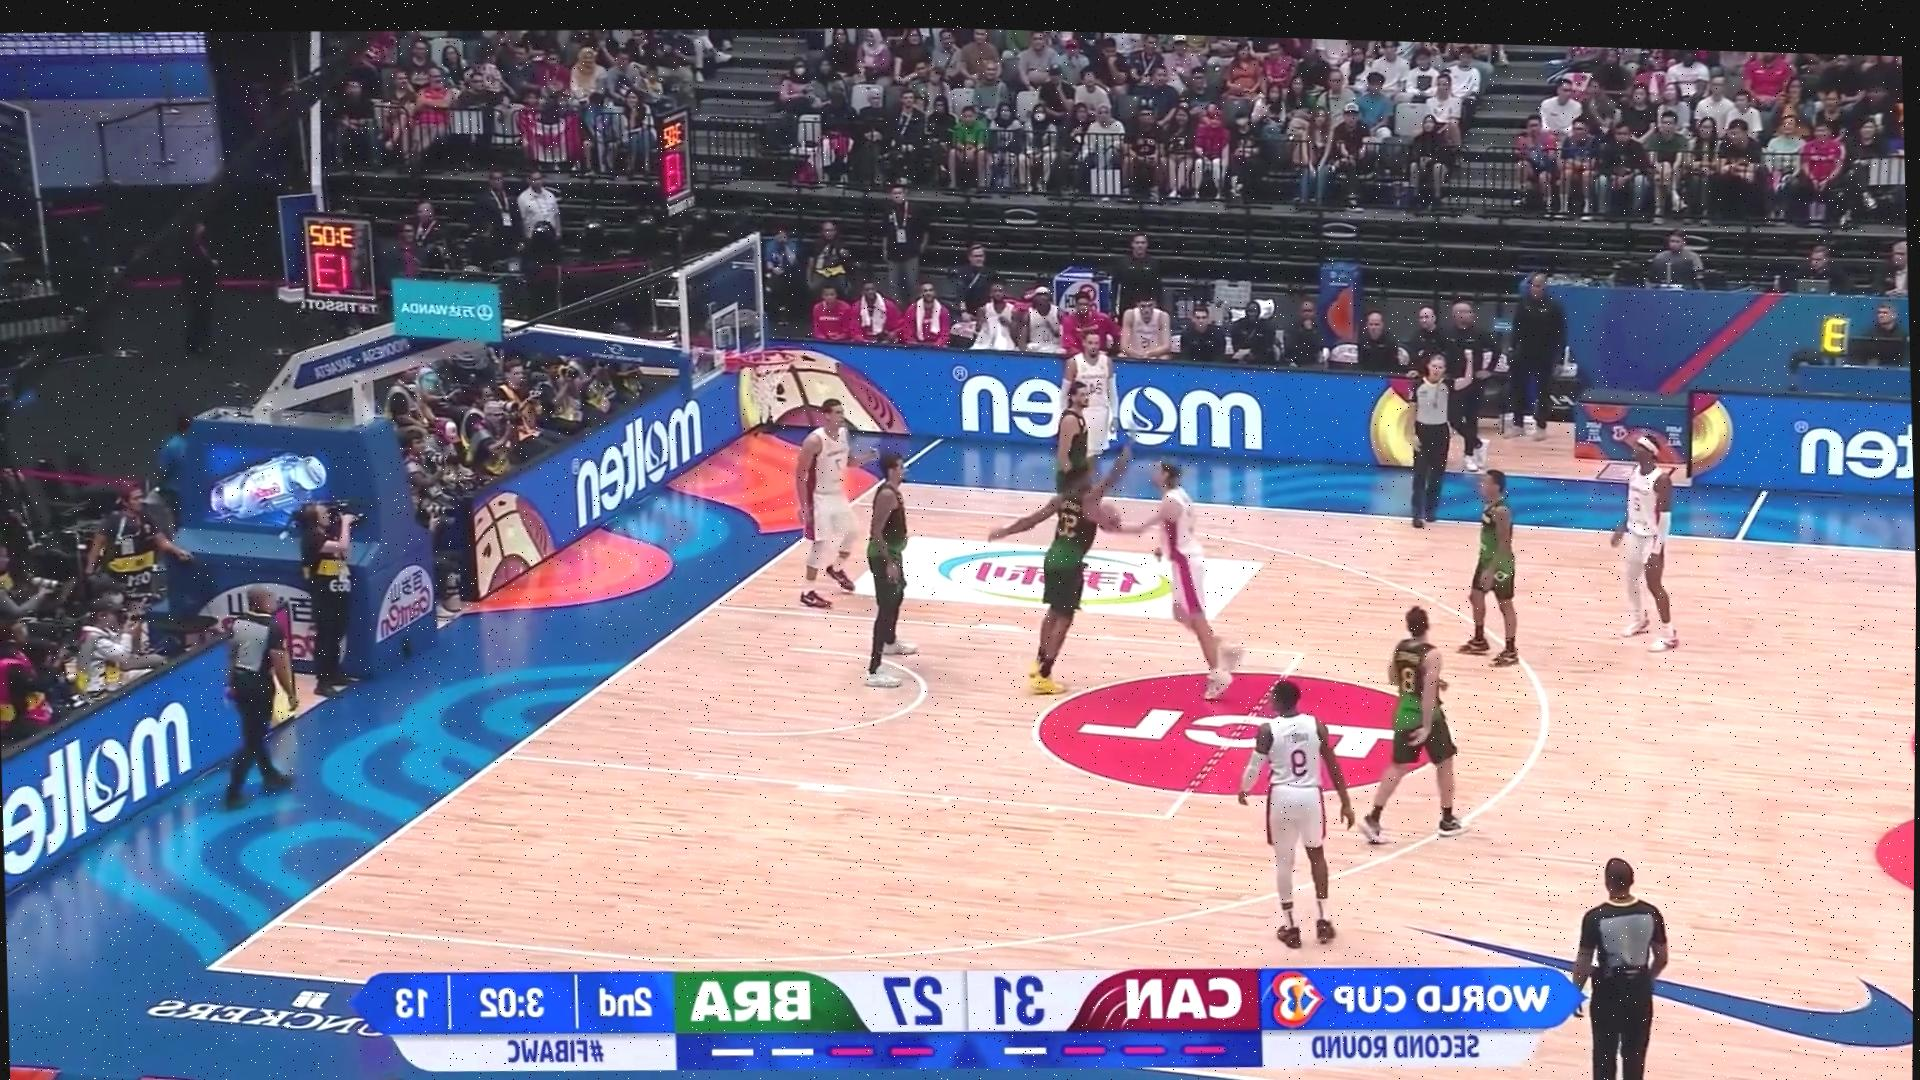no_foul: (1006, 413, 1296, 712)
